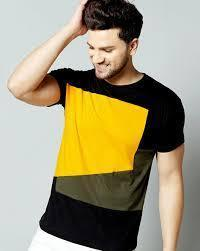Tshirt: (40, 60, 187, 247)
